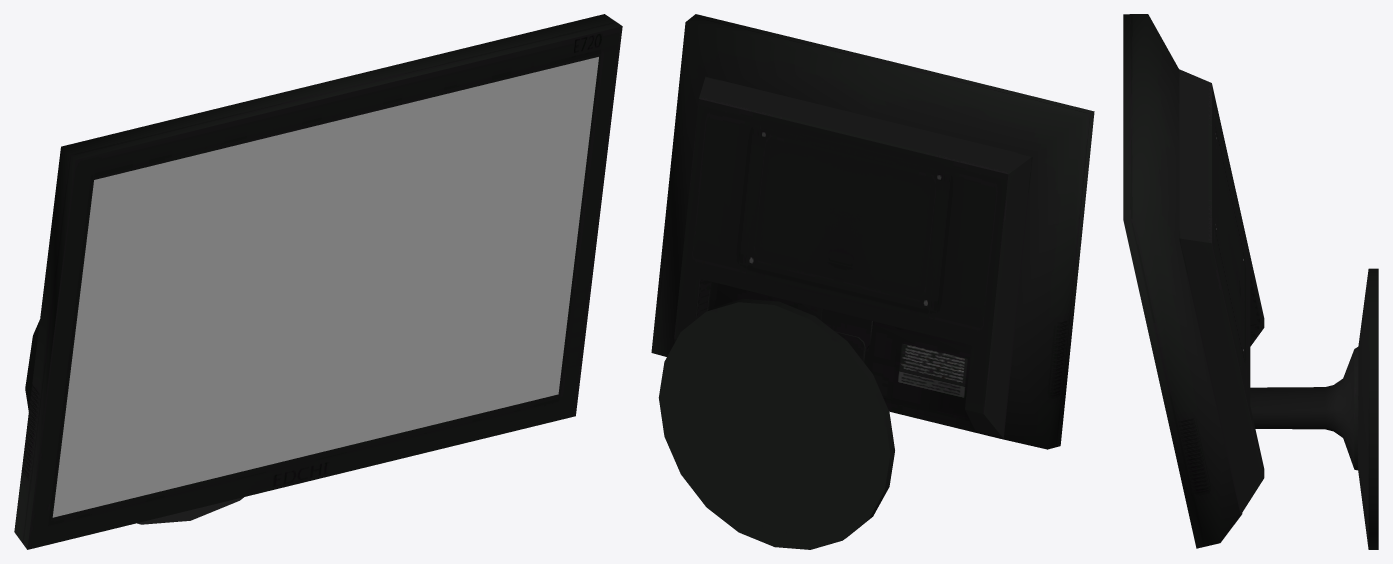
File: monitor_wall.dae
3 renders of one model, left to right at view 1: azimuth 30°, elevation 25°; view 2: azimuth 150°, elevation 25°; view 3: azimuth 270°, elevation 25°, orthographic. The views are drawn at different scales.
Parts seen in each view (by area): view 1: screen2, monitor1; view 2: monitor1; view 3: monitor1.
Part boxes in pixels (x1,y1,x2,y2): screen2: [52, 57, 598, 517]; monitor1: [14, 14, 622, 549]; monitor1: [651, 14, 1094, 549]; monitor1: [1123, 14, 1378, 549].
Size of the model in its own units: 44.95 by 42.69 by 23.45.
